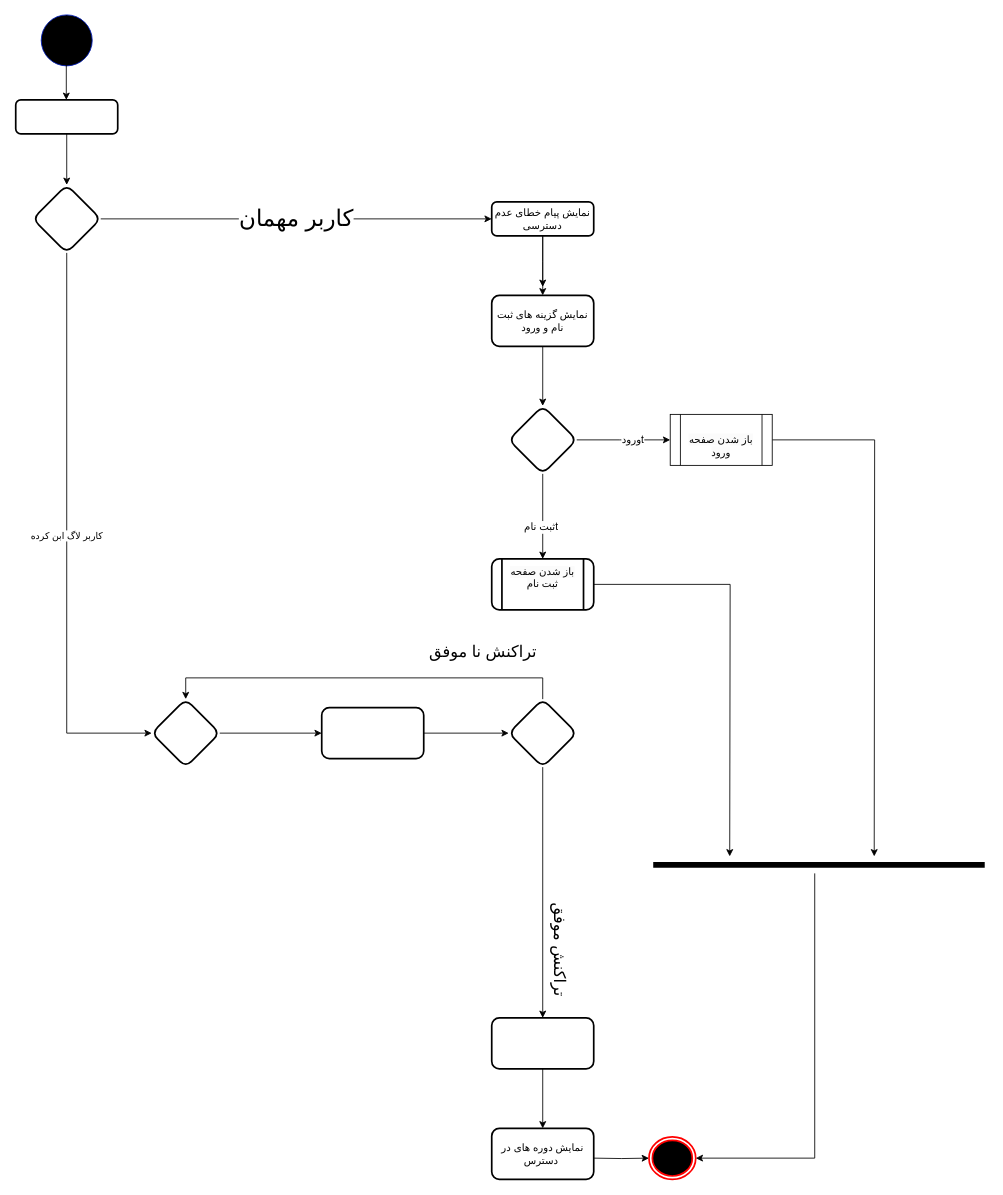
This 1003x1195 diagram has some shape labels left out. The shapes that lost their labels are listed below. From the top down, each one's centre as x and y in pixels, then its label:
At (66,116): "کلیک روی خرید دوره".
At (372,732): "باز شدن صفحه پرداخت شاپرک".
At (542,1043): "افزودن دوره به دوره ها در دسترس هنر جو".
